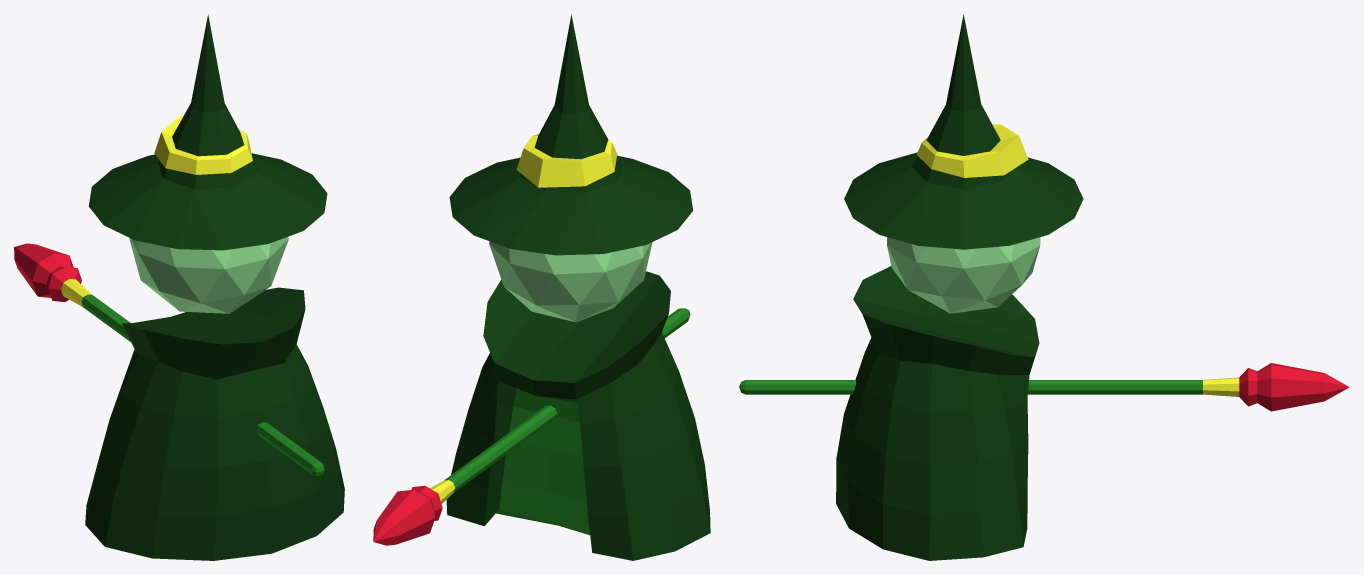
File: Wizard.fbx
The picture shows the model from 3 angles, left to right: view 1: azimuth 30°, elevation 25°; view 2: azimuth 150°, elevation 25°; view 3: azimuth 270°, elevation 25°; orthographic projection. The views are drawn at different scales.
Parts seen in each view (by area): view 1: WizardBody, WizardStaff; view 2: WizardBody, WizardStaff; view 3: WizardBody, WizardStaff.
Boxes of the visible parts, left/top/right/bottom form: WizardBody: left=85, top=14, right=344, bottom=560; WizardStaff: left=14, top=243, right=324, bottom=475; WizardBody: left=446, top=14, right=710, bottom=560; WizardStaff: left=373, top=308, right=690, bottom=545; WizardBody: left=836, top=15, right=1083, bottom=560; WizardStaff: left=739, top=363, right=1349, bottom=411.
Size of the model in its own units: 185 by 412 by 364.
